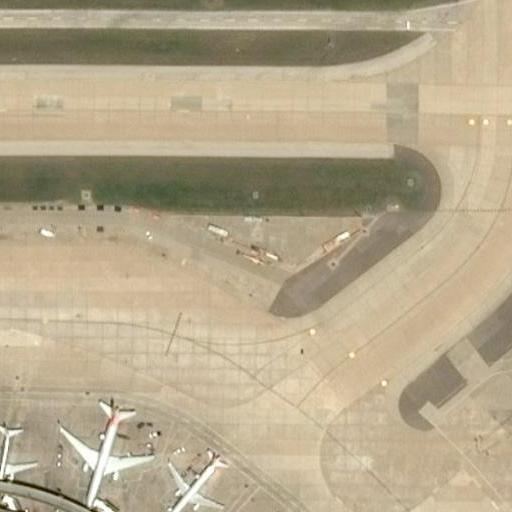Aircraft: (60, 398, 153, 498), (157, 439, 228, 512), (0, 414, 36, 495)
